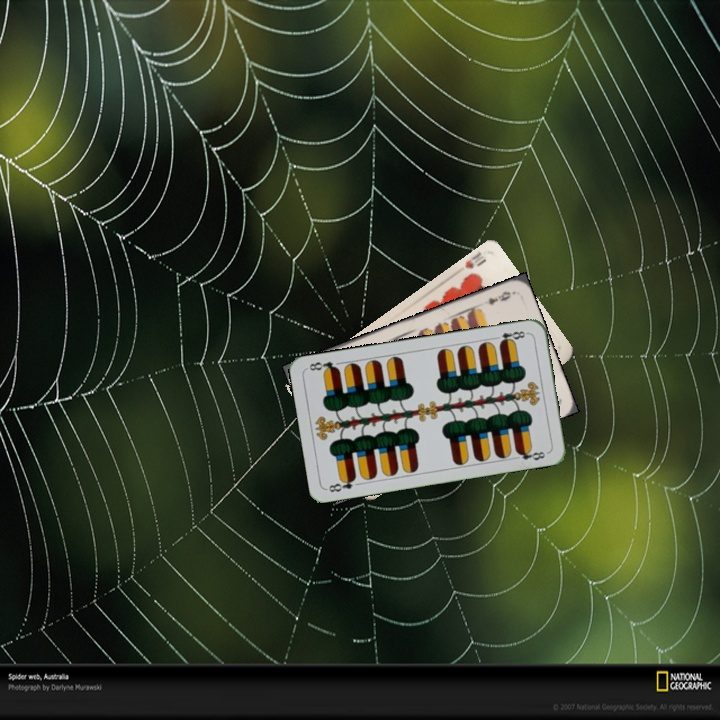E8: (490, 327, 530, 347), (324, 473, 358, 495)
E9: (484, 287, 516, 307)
H10: (461, 248, 489, 271)
